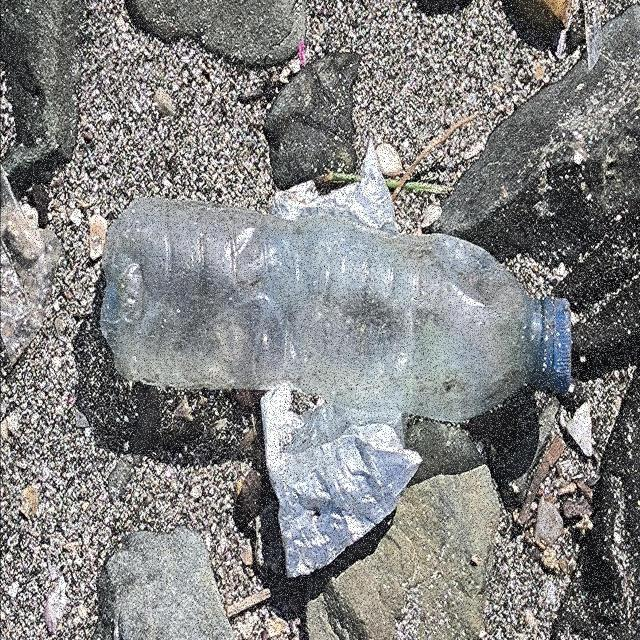plastic_waste: (101, 198, 574, 426)
